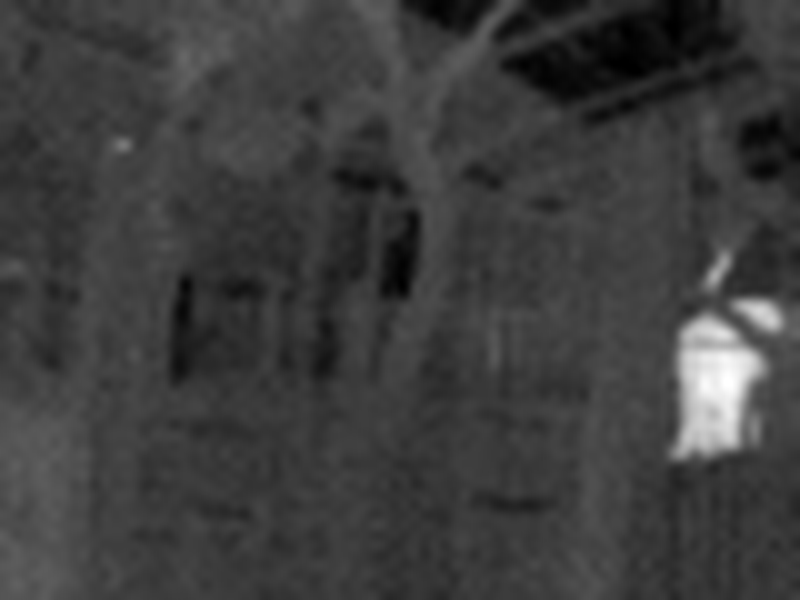elephant: (650, 229, 794, 495)
